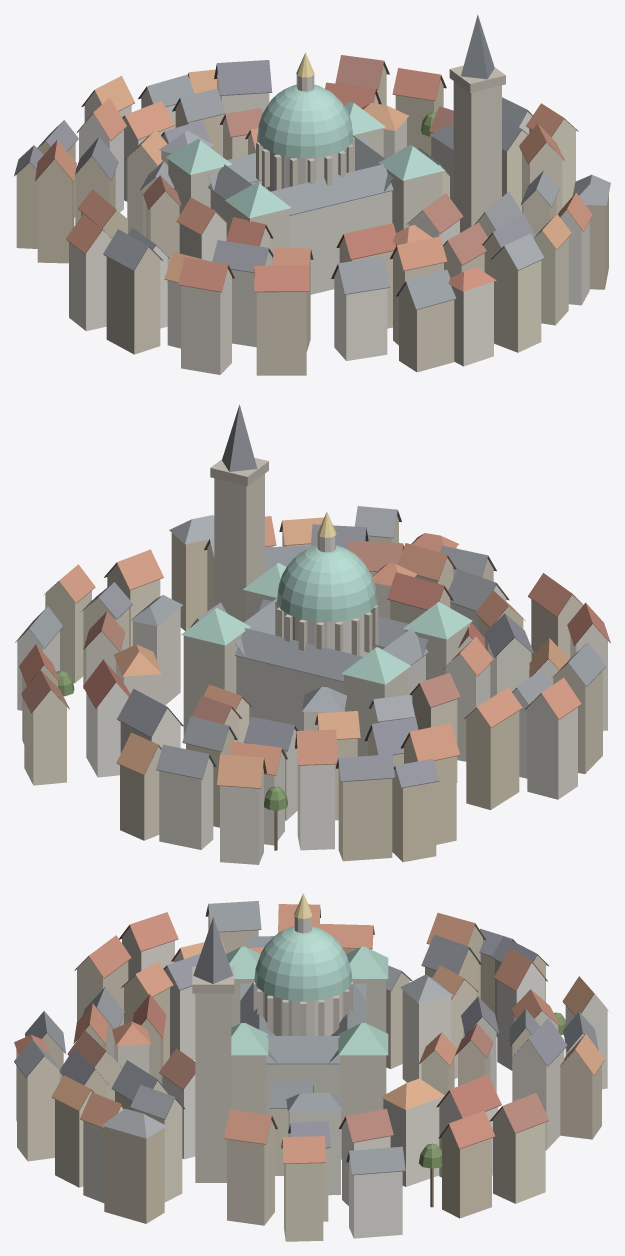
File: capital_a.glb
3 renders of one model, top to bottom at view 1: azimuth 30°, elevation 25°; view 2: azimuth 150°, elevation 25°; view 3: azimuth 270°, elevation 25°, orthographic. The views are drawn at different scales.
Visible parts, largest first — view 1: capital_a; view 2: capital_a; view 3: capital_a.
Boxes of the visible parts, bbox=[...] form: capital_a: bbox=[14, 14, 610, 375]; capital_a: bbox=[15, 404, 610, 864]; capital_a: bbox=[14, 893, 610, 1241].
Size of the model in its own units: 58.21 by 28.5 by 59.63.
